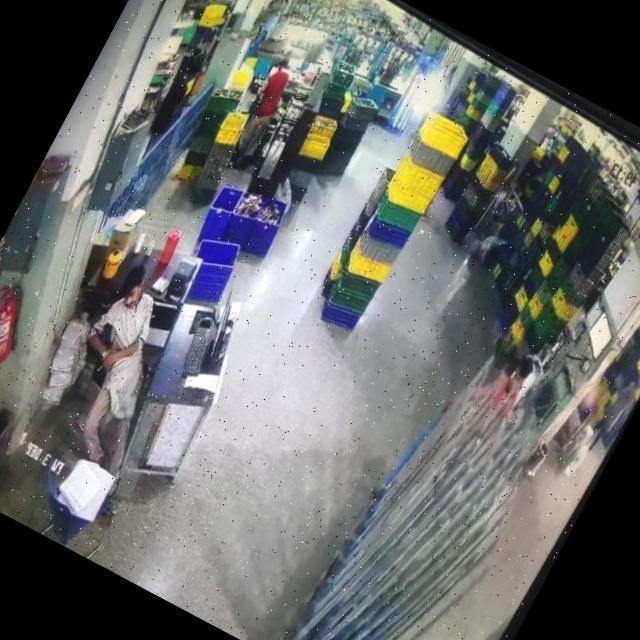person: (34, 252, 195, 466), (218, 52, 300, 173)
